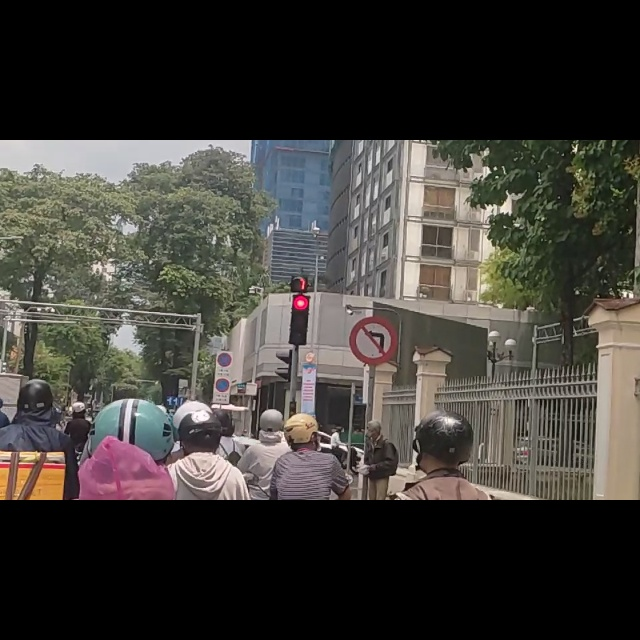bien_chi_dan: (349, 307, 398, 399), (215, 424, 230, 452), (217, 377, 232, 404)
